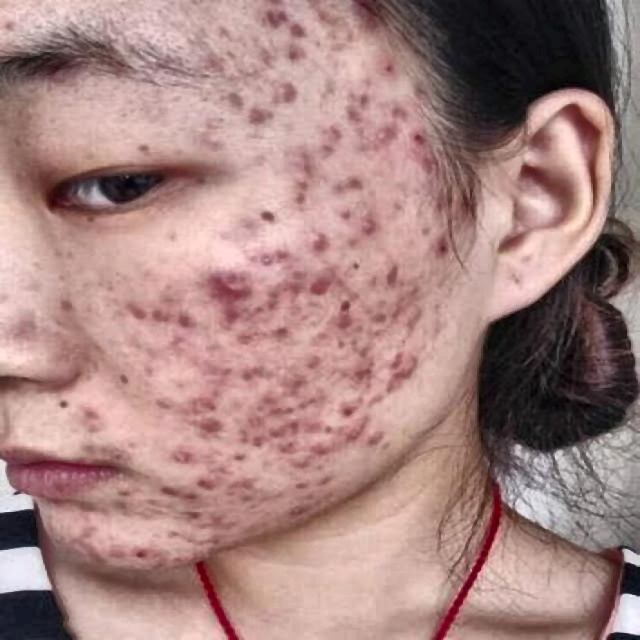nodule: (383, 339, 427, 388), (187, 267, 240, 305), (329, 390, 380, 429), (159, 440, 210, 477), (298, 272, 346, 306), (150, 477, 194, 513), (286, 16, 330, 50), (383, 94, 427, 127), (392, 126, 432, 160), (296, 230, 336, 264), (362, 55, 416, 79), (327, 300, 365, 334), (309, 122, 344, 158), (118, 302, 156, 335), (400, 292, 436, 326), (343, 426, 387, 453), (363, 306, 396, 342), (277, 360, 320, 387), (256, 383, 296, 412), (412, 230, 447, 262), (260, 419, 300, 447), (332, 352, 370, 381), (192, 402, 224, 436), (188, 387, 226, 415), (342, 87, 388, 110), (237, 328, 269, 360), (235, 471, 266, 504), (260, 315, 300, 340), (262, 0, 295, 30), (342, 215, 383, 239), (259, 239, 300, 262), (233, 354, 266, 382), (362, 124, 396, 150), (219, 445, 253, 471), (148, 387, 183, 412), (342, 168, 371, 198), (266, 81, 306, 102), (193, 468, 237, 487), (255, 277, 289, 301), (290, 176, 316, 207), (76, 405, 105, 432), (371, 259, 401, 284), (282, 498, 315, 520), (278, 155, 313, 174), (166, 306, 192, 331), (126, 540, 154, 561), (333, 107, 365, 125), (278, 51, 316, 66), (306, 434, 334, 454), (242, 100, 262, 126), (287, 474, 313, 494), (286, 447, 307, 470), (221, 311, 242, 323)
